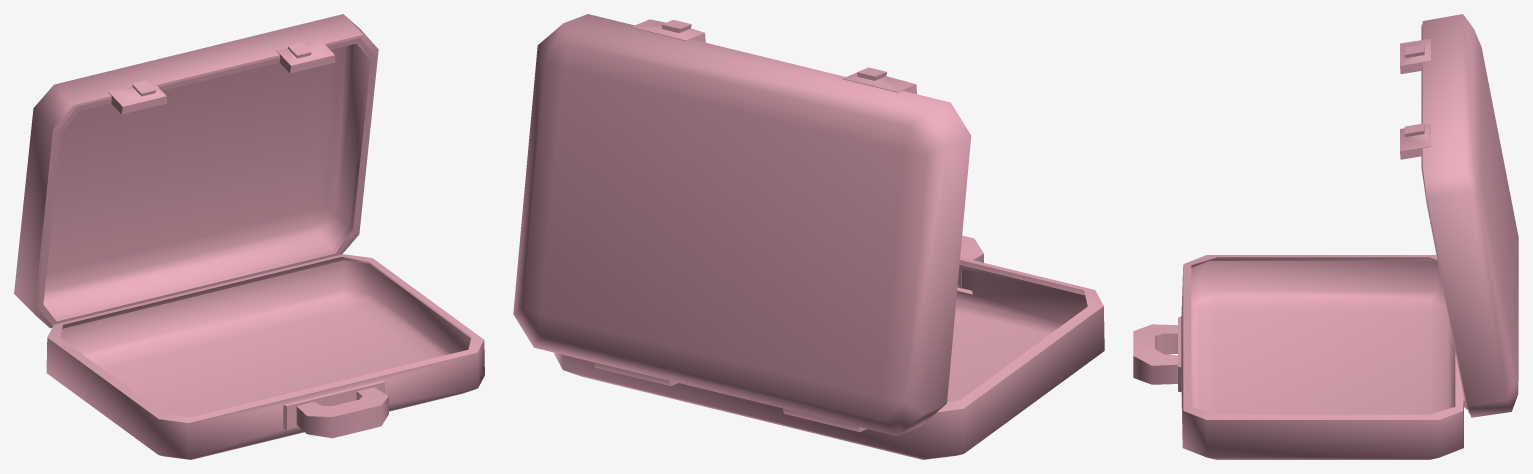
The model's file is Briefcase.fbx.
3 renders of one model, left to right at view 1: azimuth 30°, elevation 25°; view 2: azimuth 150°, elevation 25°; view 3: azimuth 270°, elevation 25°, orthographic. The views are drawn at different scales.
Visible parts, largest first — view 1: Briefcase; view 2: Briefcase; view 3: Briefcase.
Part boxes in pixels (box(x1,y1,x2,y2)): Briefcase: box(14, 14, 484, 459); Briefcase: box(513, 14, 1104, 459); Briefcase: box(1133, 14, 1518, 459).
Size of the model in its own units: 77.93 by 65.5 by 76.52.
